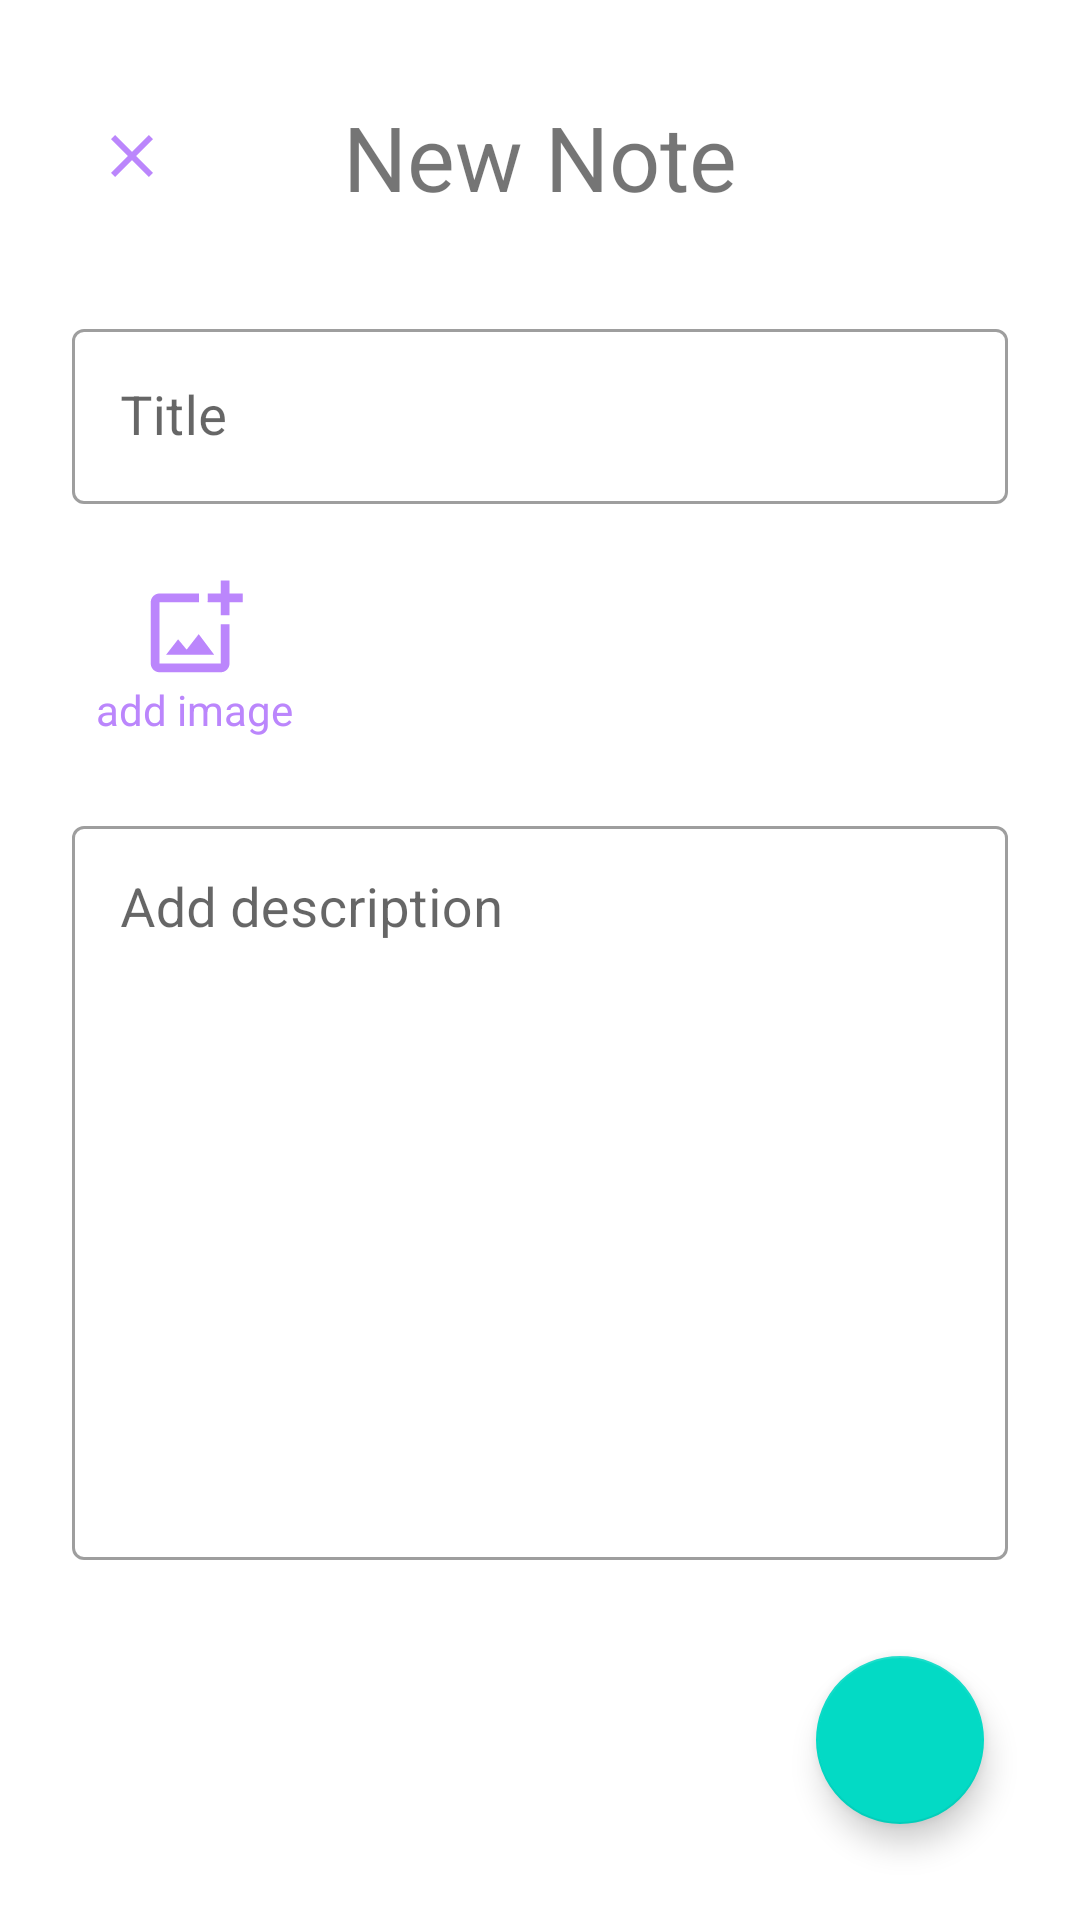

Point at icon controls on the screen. Image size 1080 × 1920, points as point (x, y).
close: point (132, 156)
